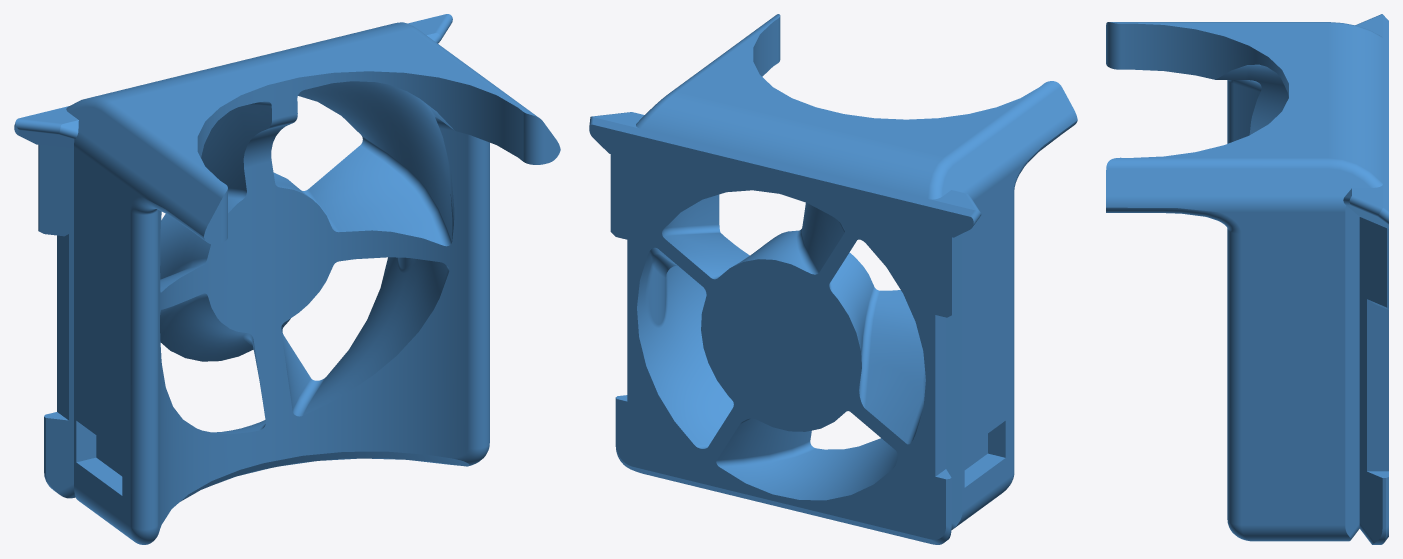
The model's file is A4T HE Fan Duct - Rapido.gltf.
3 renders of one model, left to right at view 1: azimuth 30°, elevation 25°; view 2: azimuth 150°, elevation 25°; view 3: azimuth 270°, elevation 25°, orthographic. The views are drawn at different scales.
Visible parts, largest first — view 1: A4T HE Fan Duct - Rapido; view 2: A4T HE Fan Duct - Rapido; view 3: A4T HE Fan Duct - Rapido.
Boxes of the visible parts, box(x1,y1,x2,y2) form: A4T HE Fan Duct - Rapido: box(14, 14, 560, 544); A4T HE Fan Duct - Rapido: box(589, 14, 1077, 544); A4T HE Fan Duct - Rapido: box(1106, 14, 1388, 544).
Bounding box in the file's own units: 0.033 × 0.0296 × 0.02.
